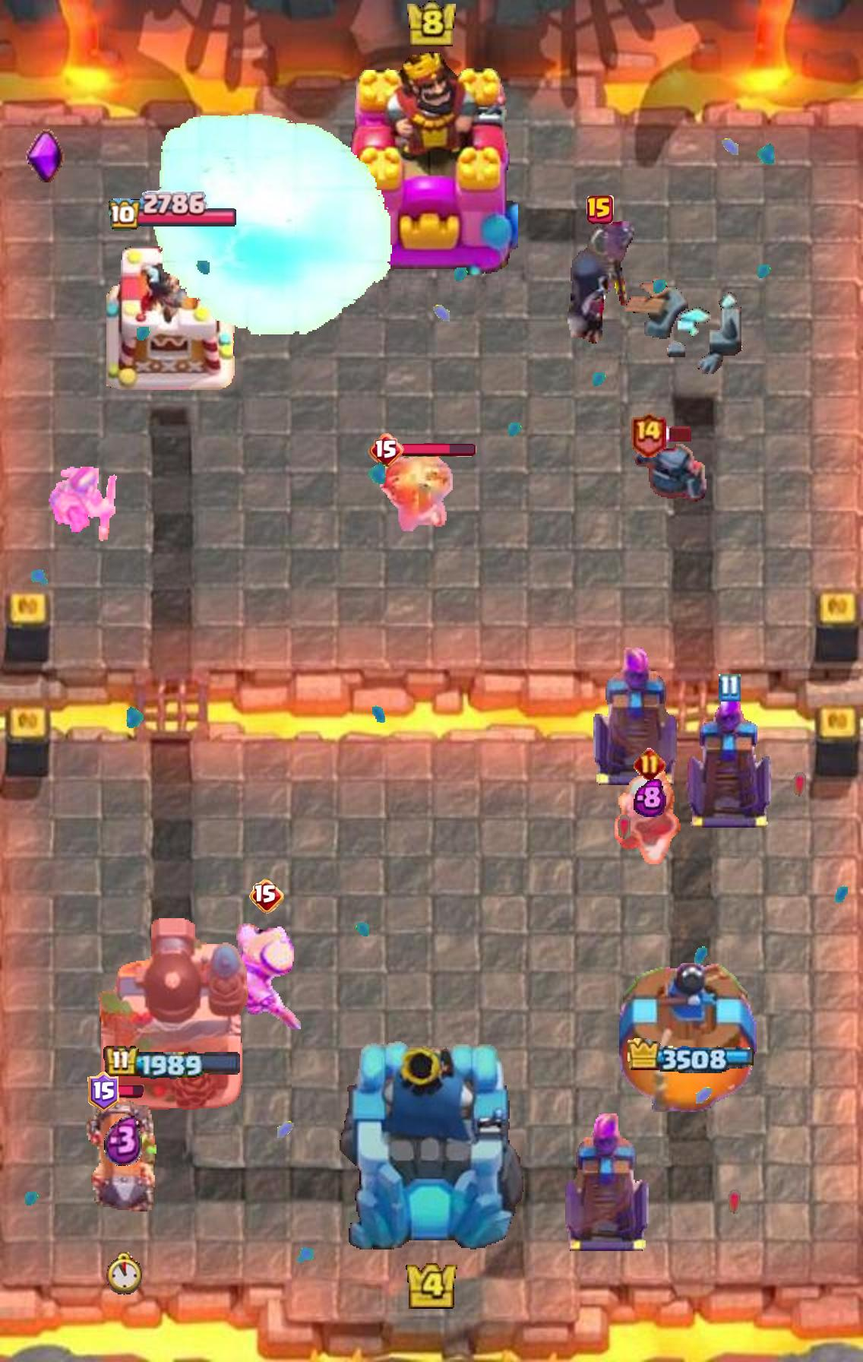elixir: (104, 1114, 144, 1166), (634, 778, 667, 817)
